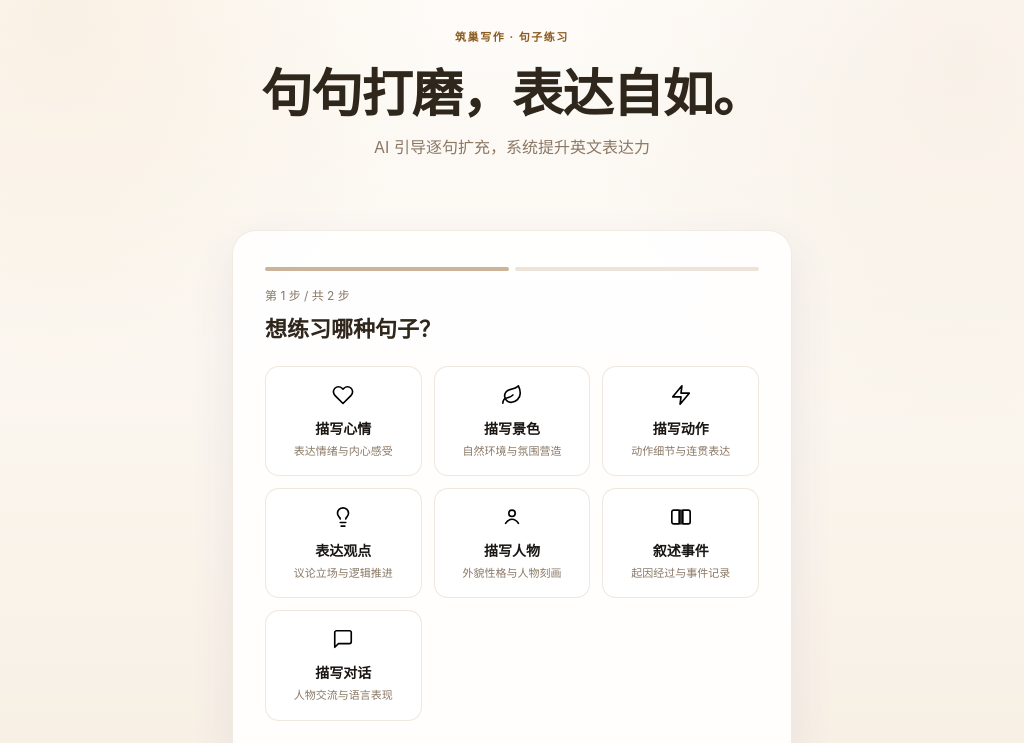
Test: WritingRefineSentencePage › walks through type and difficulty selection to generate a base sentence
This screenshot has width=1024, height=743.
Expected: the heading "想练习哪种句子？" is shown, left=265, top=316, right=441, bottom=342
Click the button "描写心情 表达情绪与内心感受" at (343, 421), box left=265, top=366, right=422, bottom=476
(page scrolled)
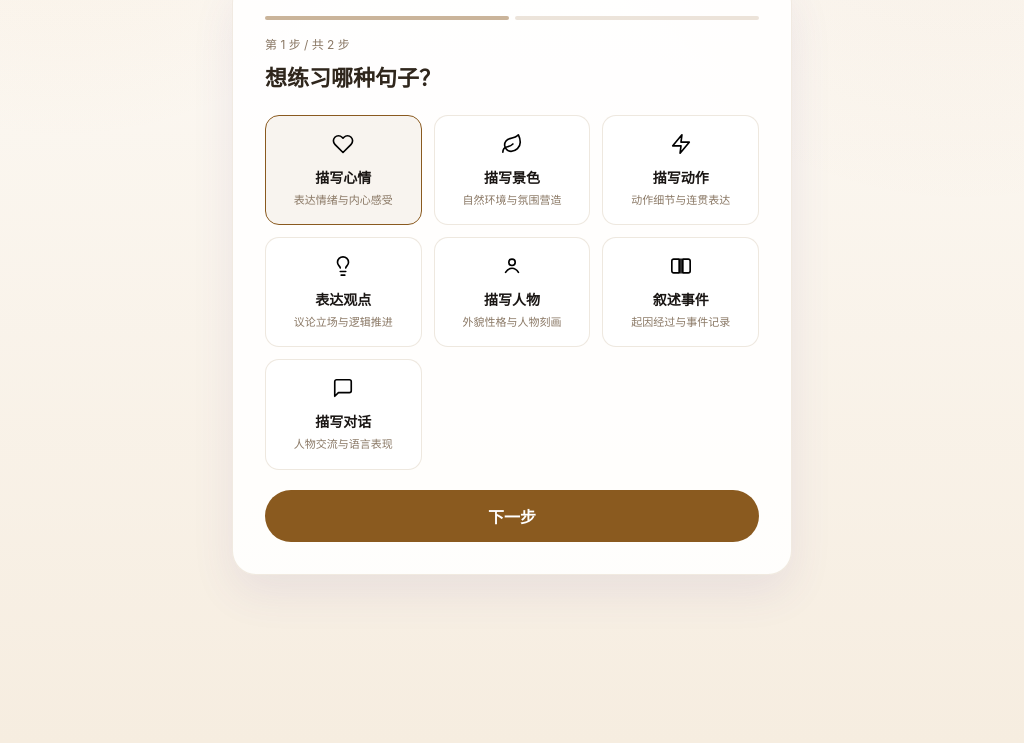
Click the button "下一步" at (512, 516), box left=265, top=490, right=759, bottom=542
(page scrolled)
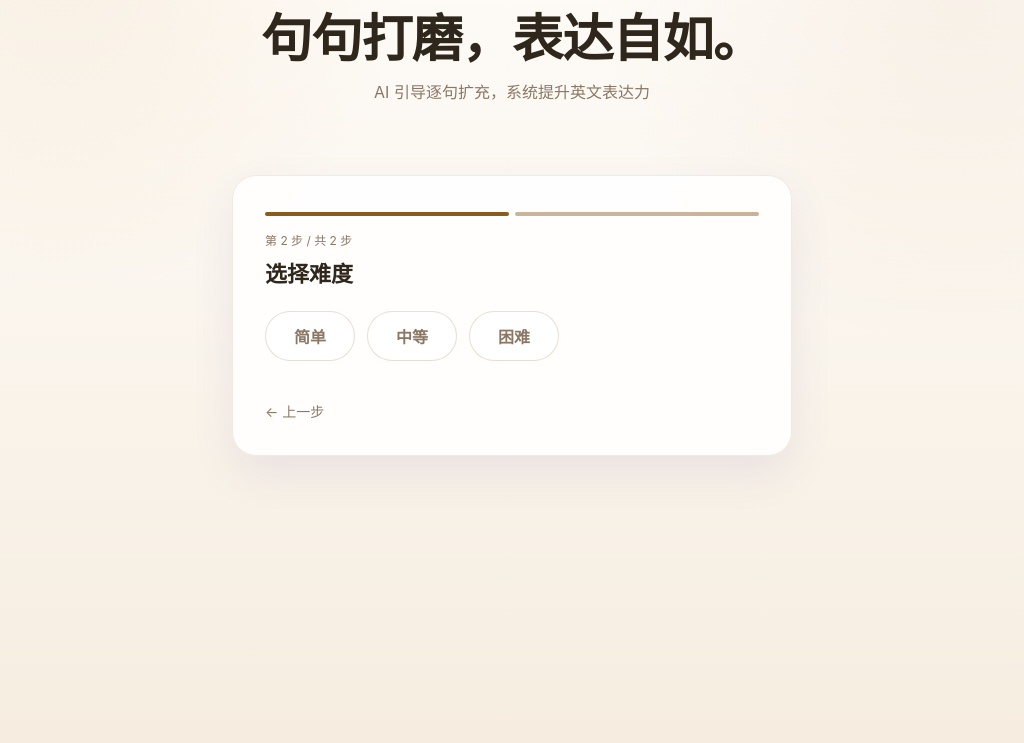
Click the button "简单" at (310, 336), box left=265, top=311, right=355, bottom=361
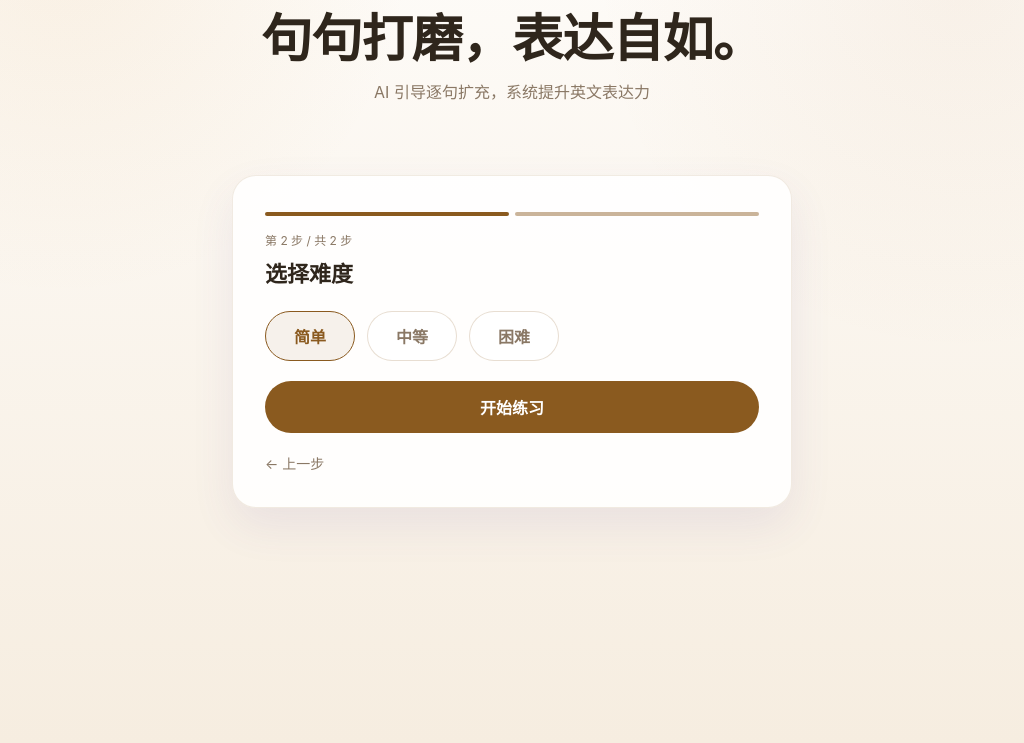
Click the button "开始练习" at (512, 407), box left=265, top=381, right=759, bottom=433
(page scrolled)
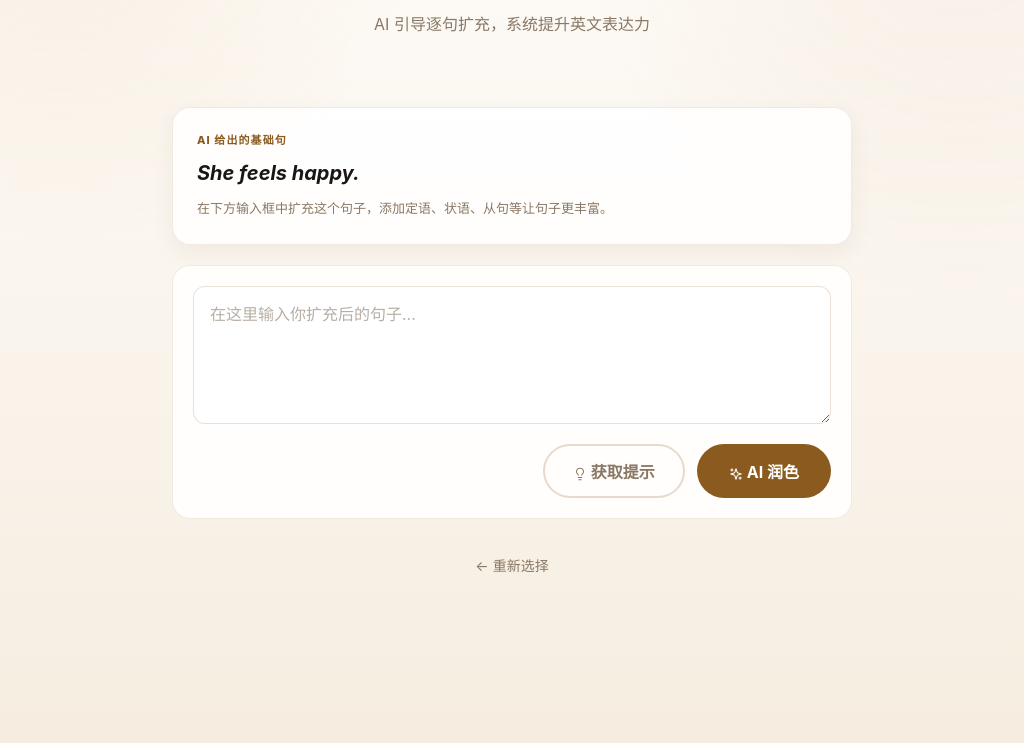
Result: the text "She feels happy." is shown at left=197, top=161, right=360, bottom=185
